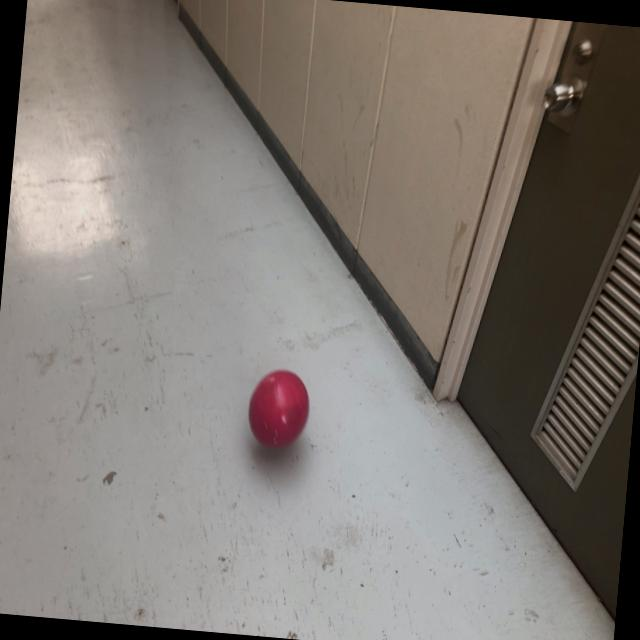red_ball: (244, 367, 310, 451)
